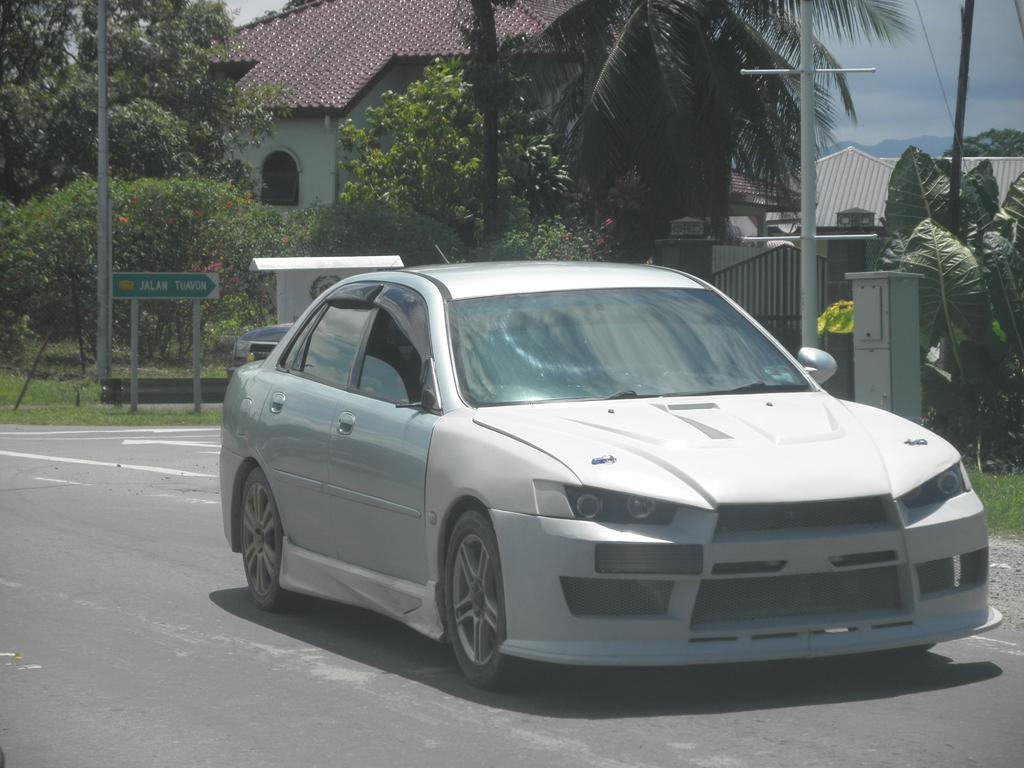Tree: (0, 0, 1024, 477)
